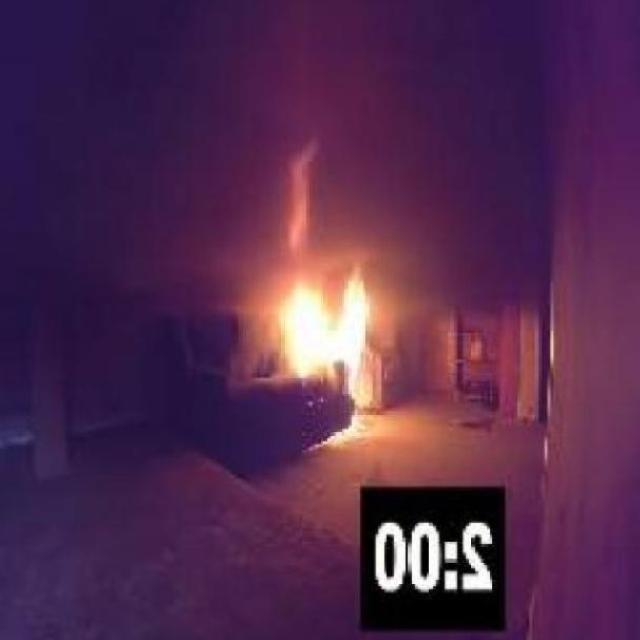smoke: (274, 268, 376, 386)
